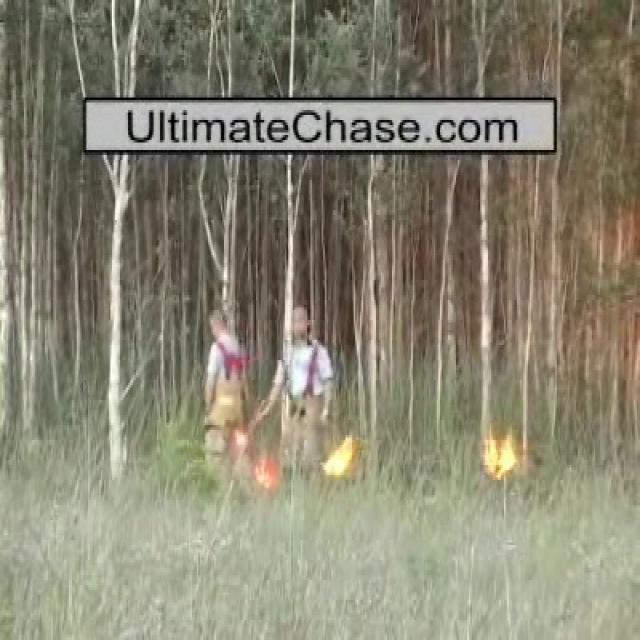fire: (474, 423, 530, 491), (324, 433, 360, 486)
